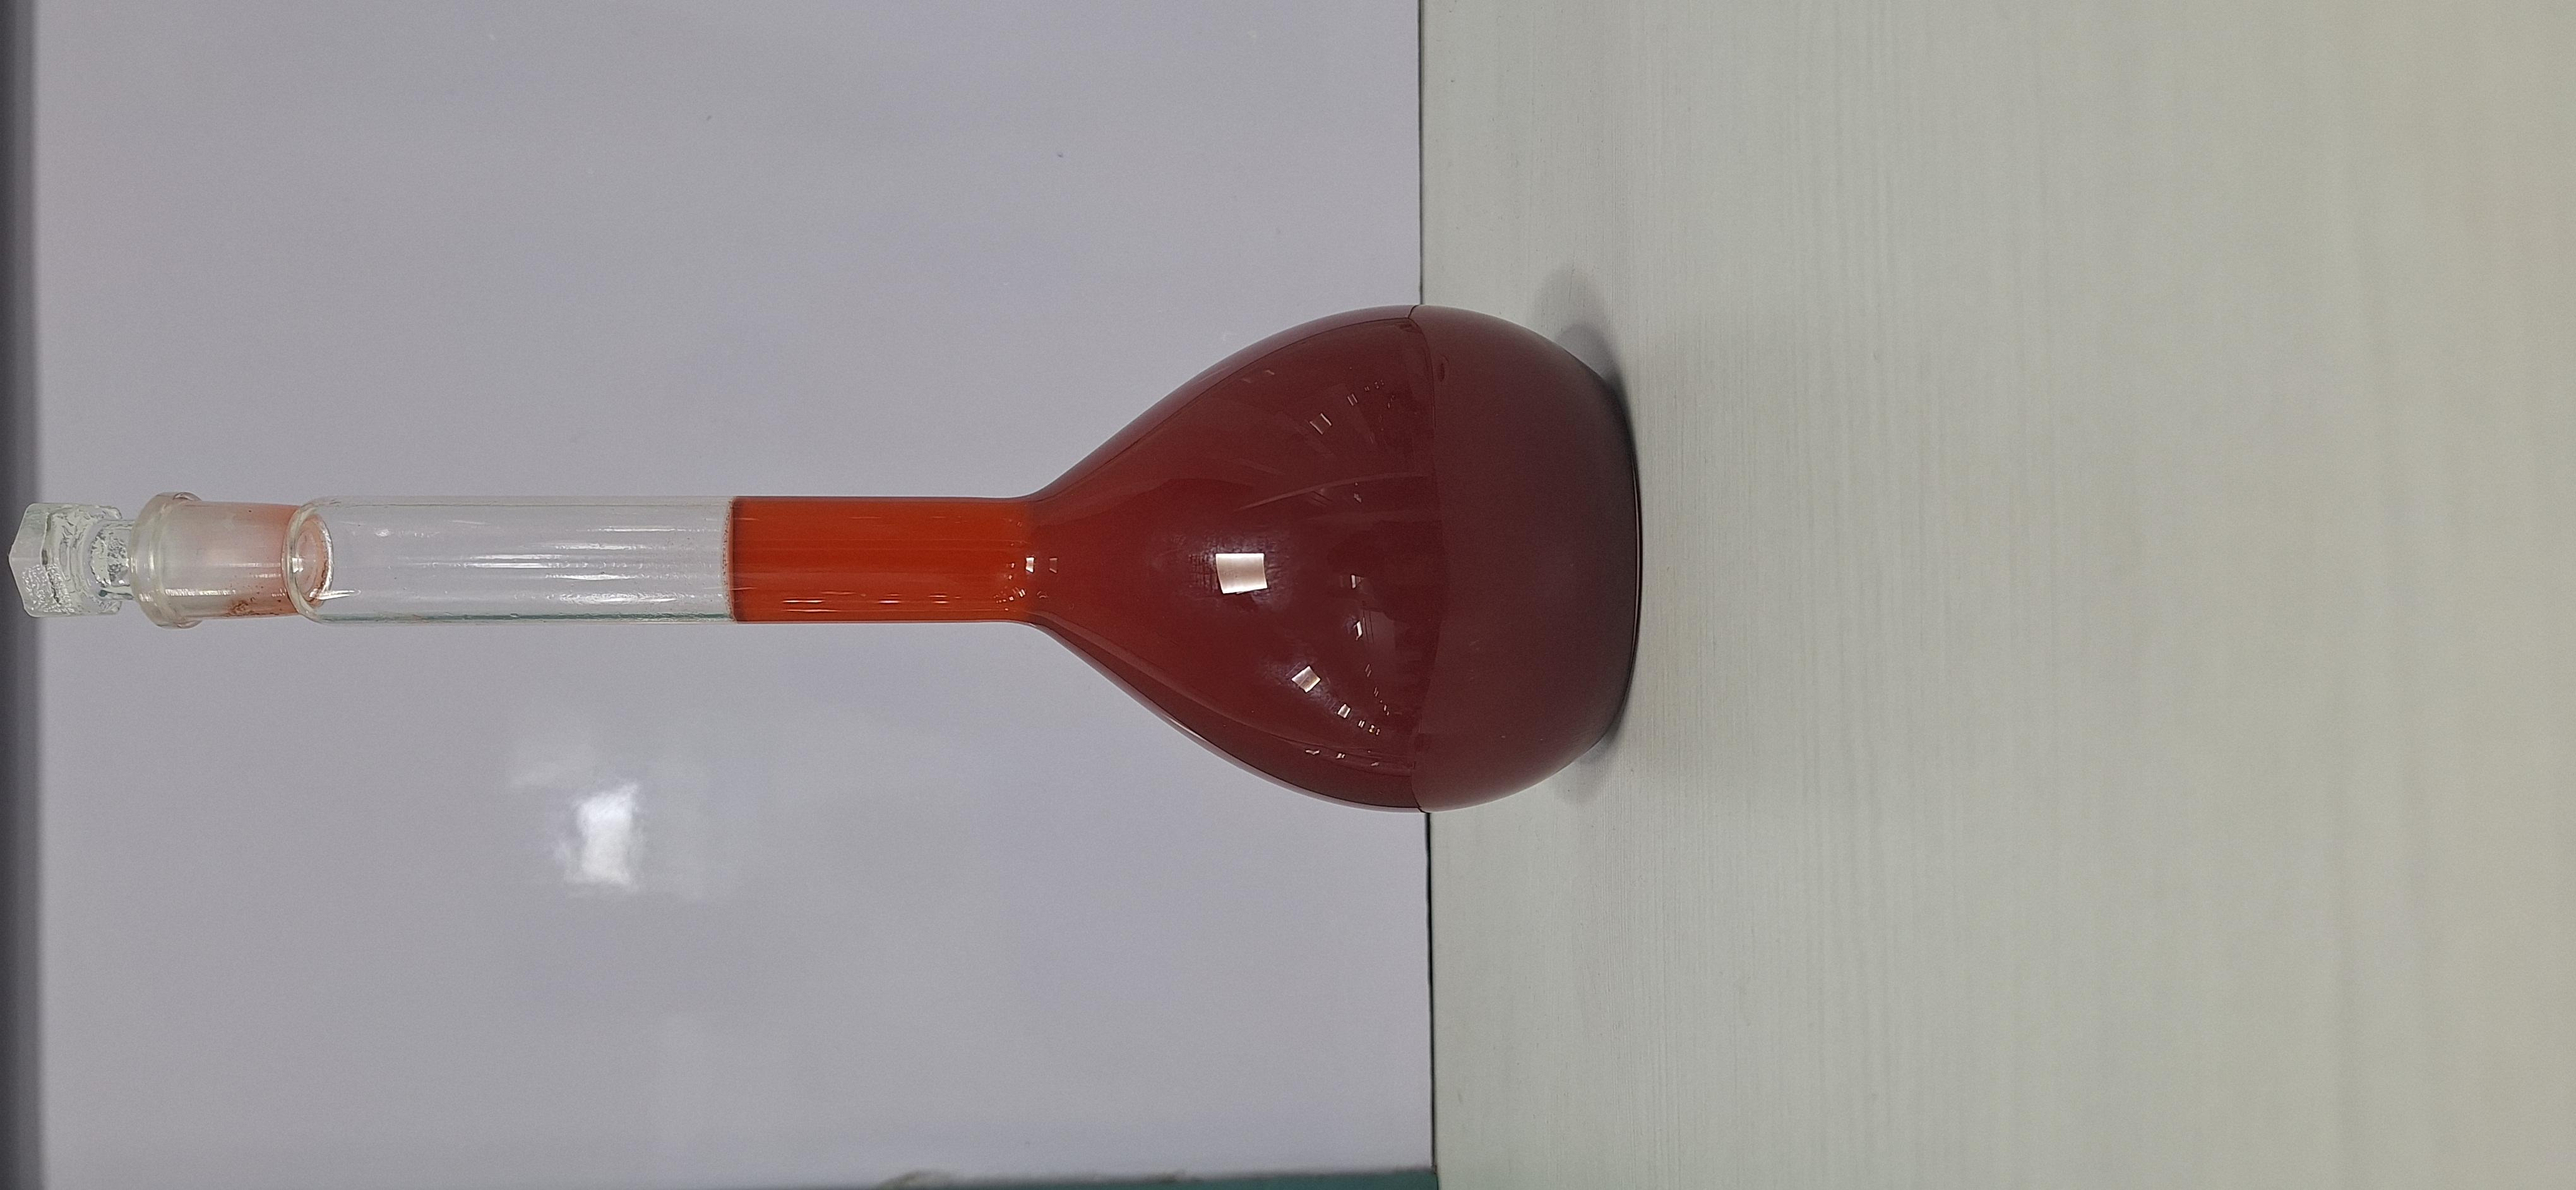Volumetric flask: (770, 8, 1916, 753)
